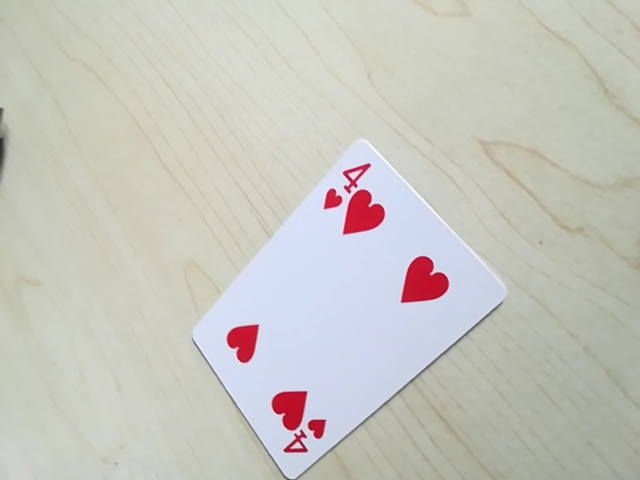hx 4: (319, 157, 376, 226), (270, 417, 331, 468)
